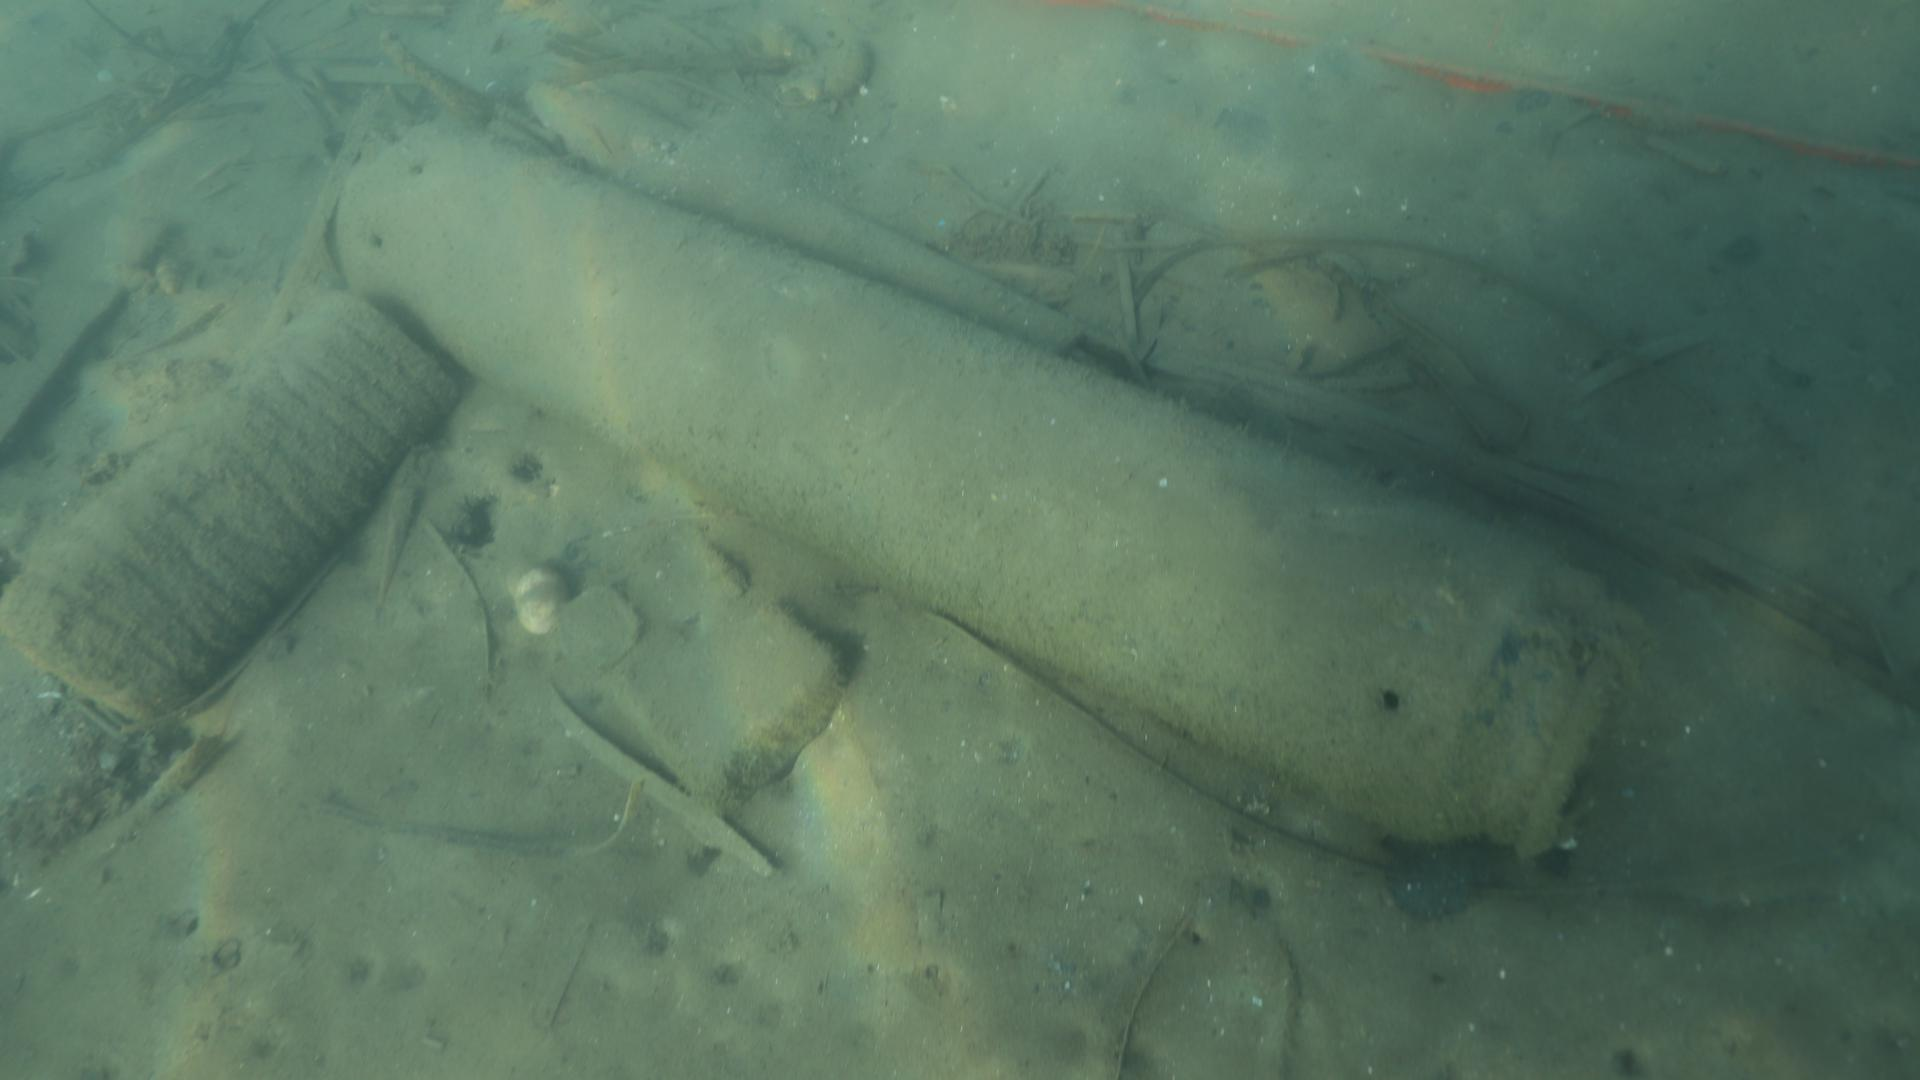eel fish trap: (332, 117, 1636, 862)
rope: (372, 24, 495, 120)
